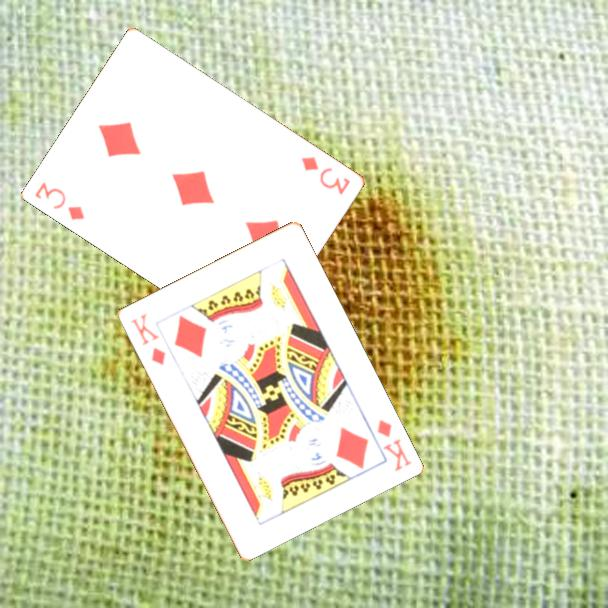d03: (32, 178, 88, 223), (298, 153, 353, 198)
d13: (373, 415, 415, 474), (127, 309, 168, 368)
